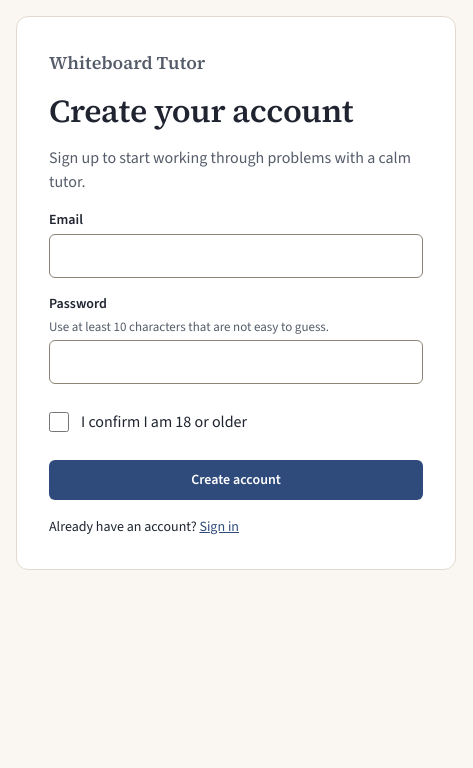
Test case: sign up › maps server field errors under the right fields and focuses the summary
Step 1. Type "maya@example.com" into the field labelled "Email" → (236, 256), box [49,234,423,278]
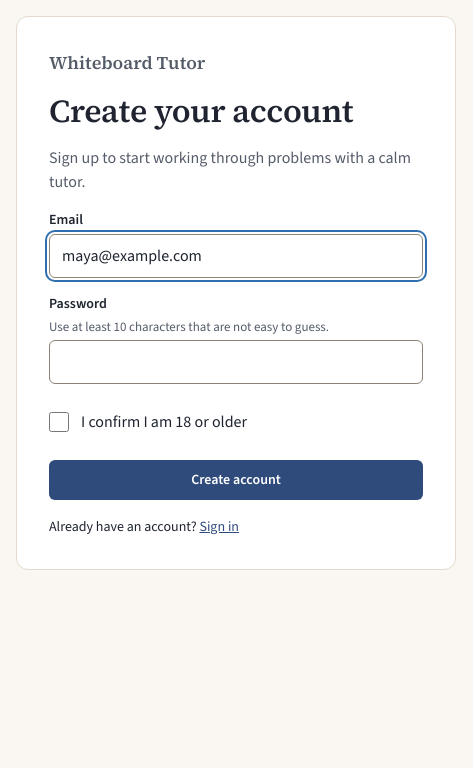
Step 2. Type "a long enough passphrase" into the password field labelled "Password" → (236, 362), box [49,340,423,384]
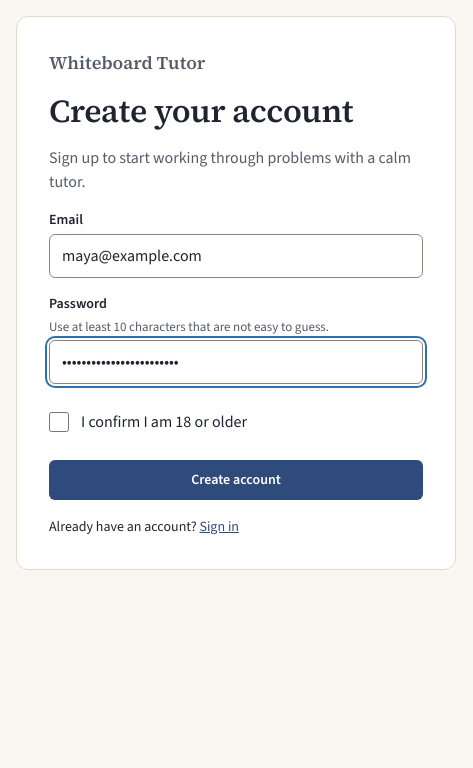
Step 3. Click the checkbox labelled "I confirm I am 18 or older" → click(59, 422), box [49,412,69,432]
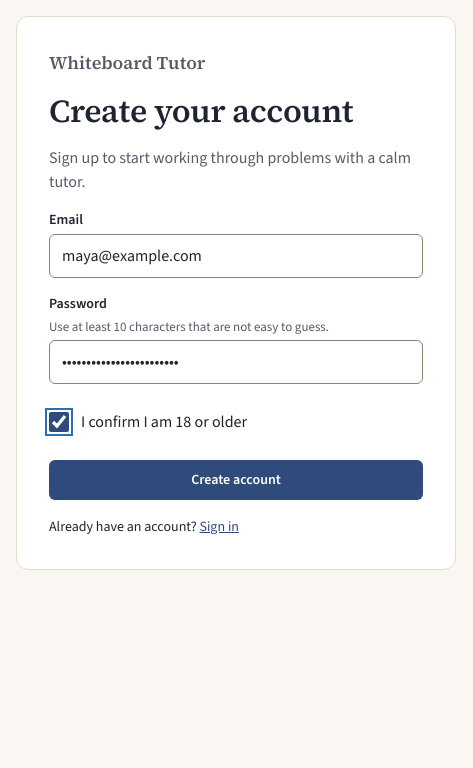
Step 4. Click the button "Create account" → click(236, 480), box [49,460,423,500]
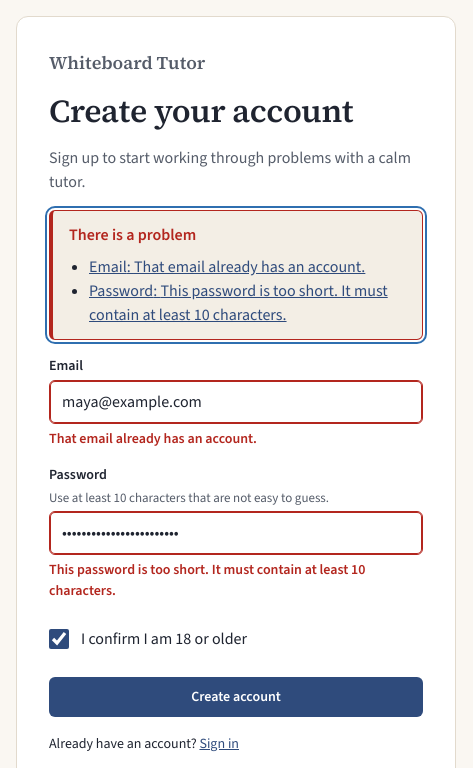
Expected: the button "Create account" is enabled, [49,677,423,717]
Expected: the link "Email: That email already has an account." is shown, [89,256,365,277]
